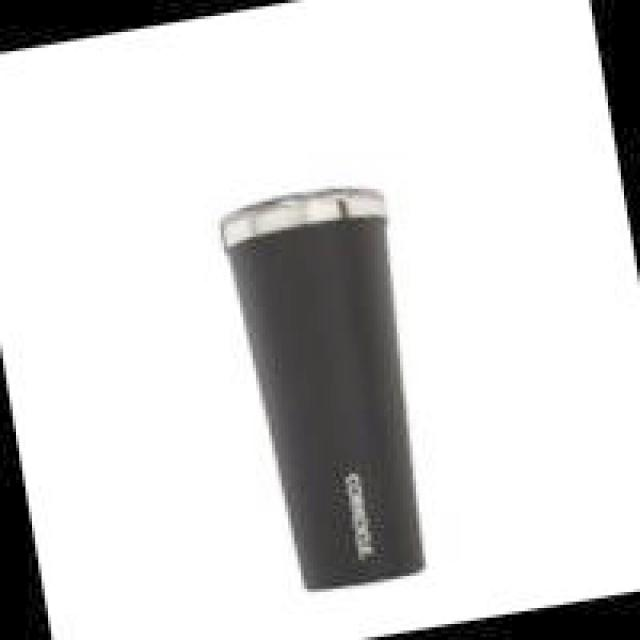bottle: (212, 174, 450, 594)
